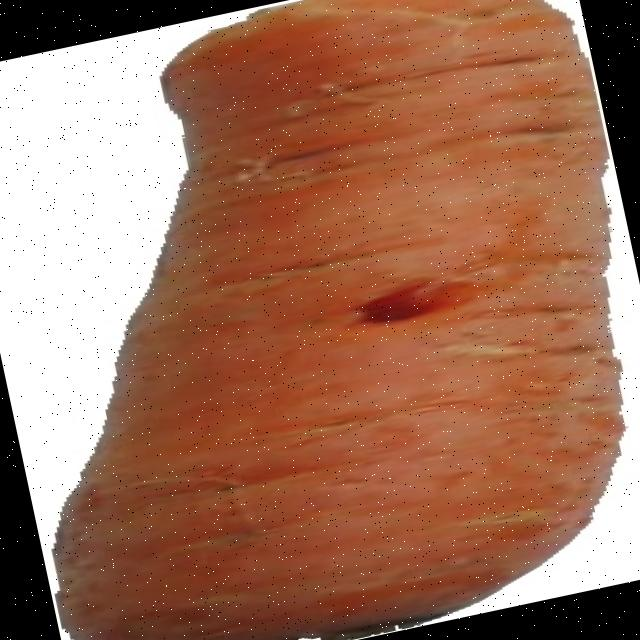carrot: (55, 0, 623, 640)
